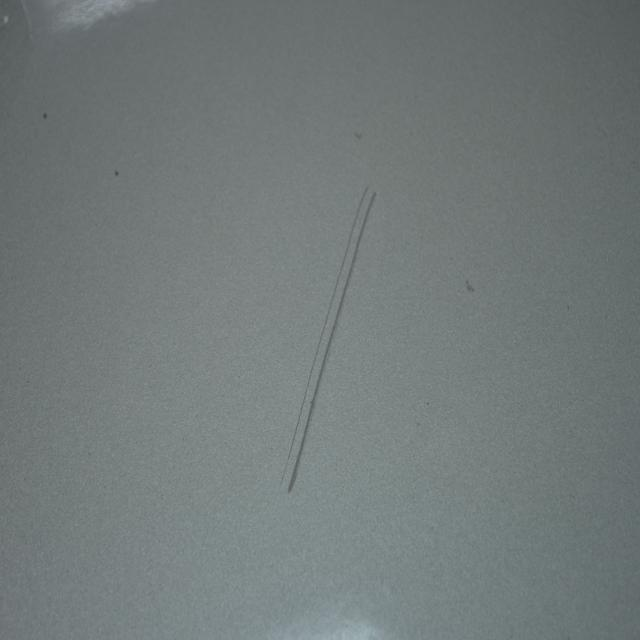dirt: (462, 273, 478, 298), (352, 127, 364, 144), (111, 166, 121, 178), (42, 109, 48, 122)
scratch: (276, 176, 379, 505)
